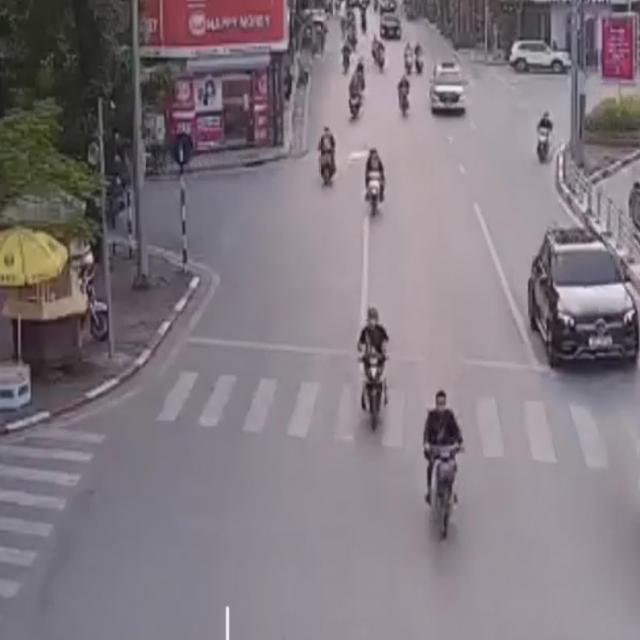car: (524, 224, 639, 376), (430, 57, 470, 120)
motorbike: (414, 383, 468, 547), (355, 302, 393, 441), (362, 145, 386, 220), (314, 124, 338, 190), (533, 108, 556, 168), (395, 70, 414, 122), (347, 76, 365, 122)
